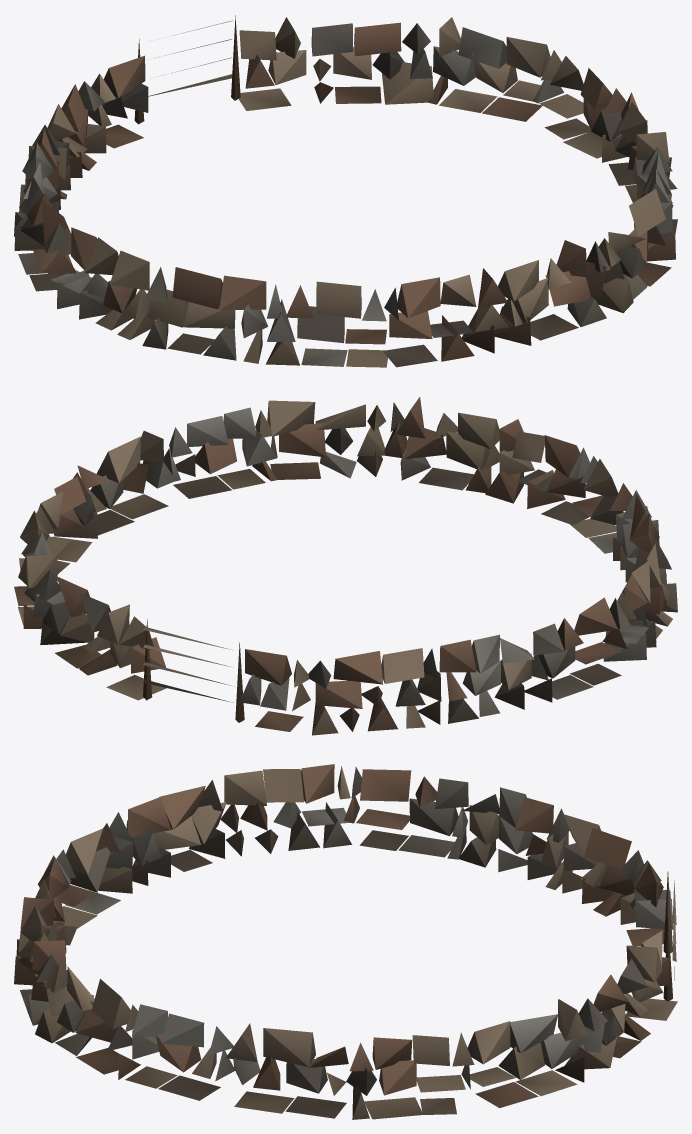
Rendered from casa_corral_pirca_a_lod.glb.
3 views of the same model, one above another, from view 1: azimuth 30°, elevation 25°; view 2: azimuth 150°, elevation 25°; view 3: azimuth 270°, elevation 25° (orthographic). The views are drawn at different scales.
Parts seen in each view (by area): view 1: casa_corral_pirca_a; view 2: casa_corral_pirca_a; view 3: casa_corral_pirca_a.
Part boxes in pixels (<box>): casa_corral_pirca_a: <box>14,15,677,367</box>; casa_corral_pirca_a: <box>14,397,677,735</box>; casa_corral_pirca_a: <box>14,764,677,1119</box>.
Size of the model in its own units: 10.74 by 1.45 by 10.37.
